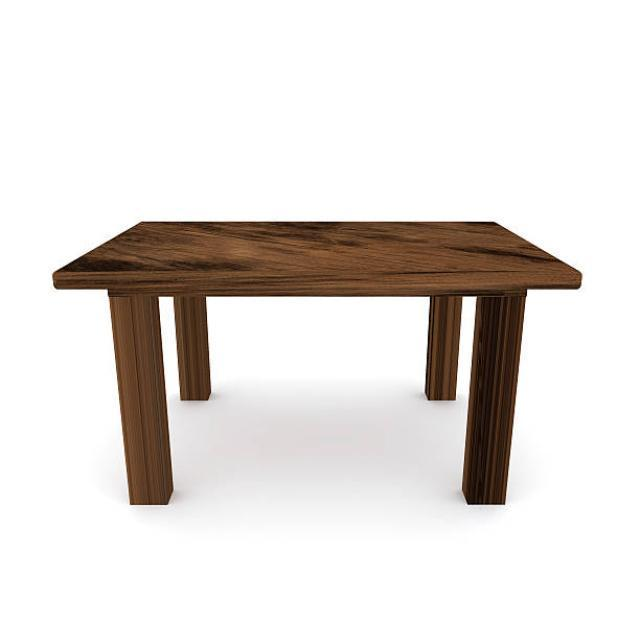table: (51, 218, 582, 508)
